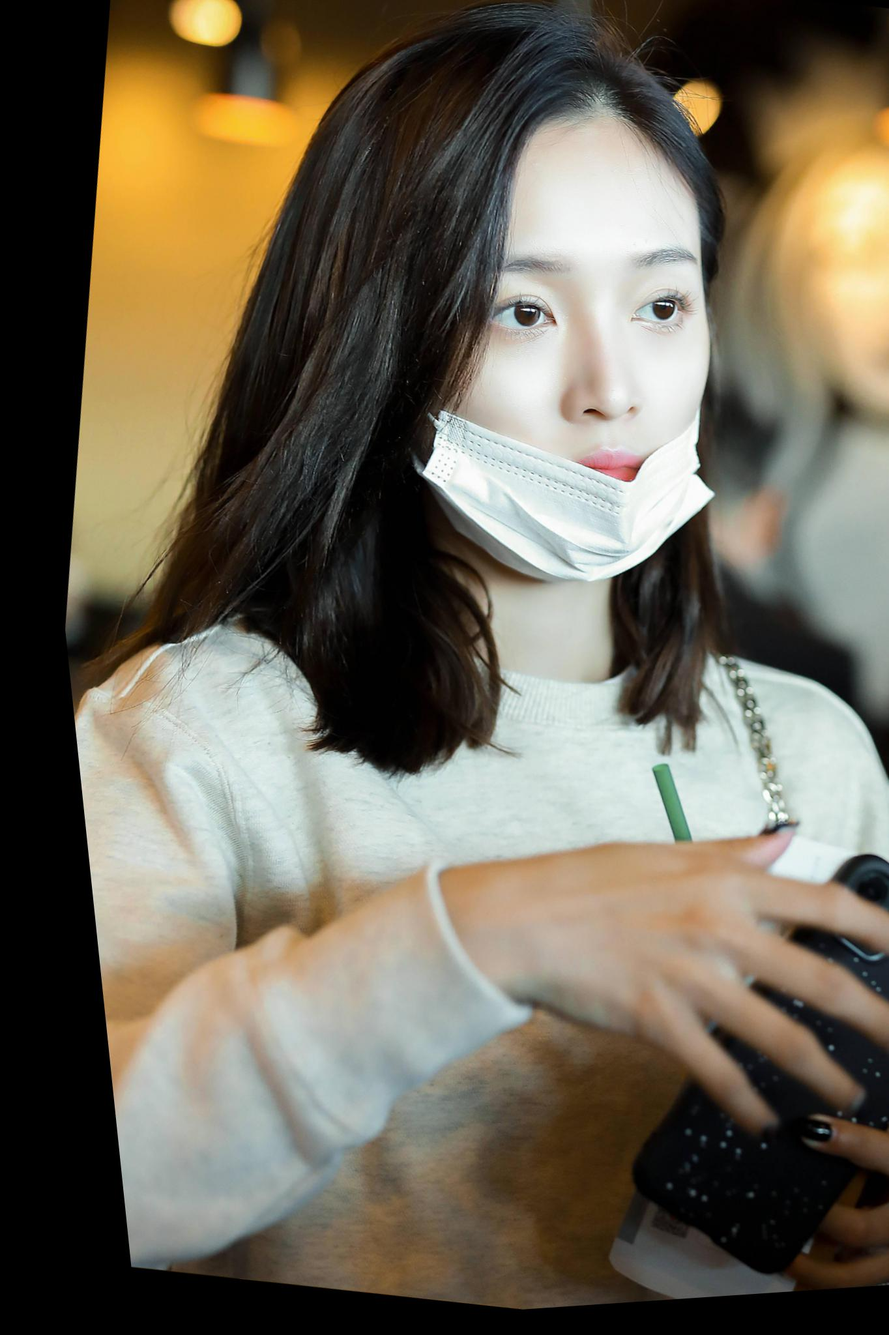WRONG: (369, 143, 752, 617)
